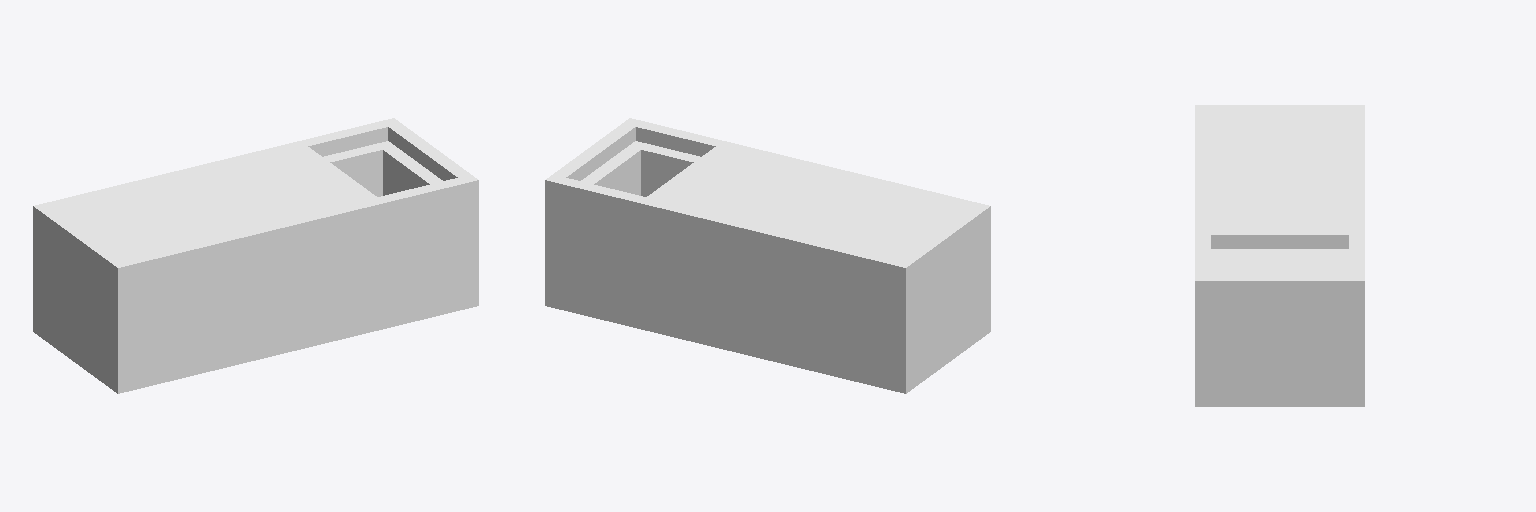
Rendered from 9mmboxempty.obj.
The picture shows the model from 3 angles: view 1: azimuth 30°, elevation 25°; view 2: azimuth 150°, elevation 25°; view 3: azimuth 270°, elevation 25°; orthographic projection.
Parts seen in each view (by area): view 1: 9boxa; view 2: 9boxa; view 3: 9boxa.
Part boxes in pixels (left/top/right/bottom): 9boxa: left=33, top=118, right=478, bottom=393; 9boxa: left=545, top=118, right=990, bottom=393; 9boxa: left=1195, top=105, right=1364, bottom=406.
Size of the model in its own units: 2.7 by 0.9 by 1.1.